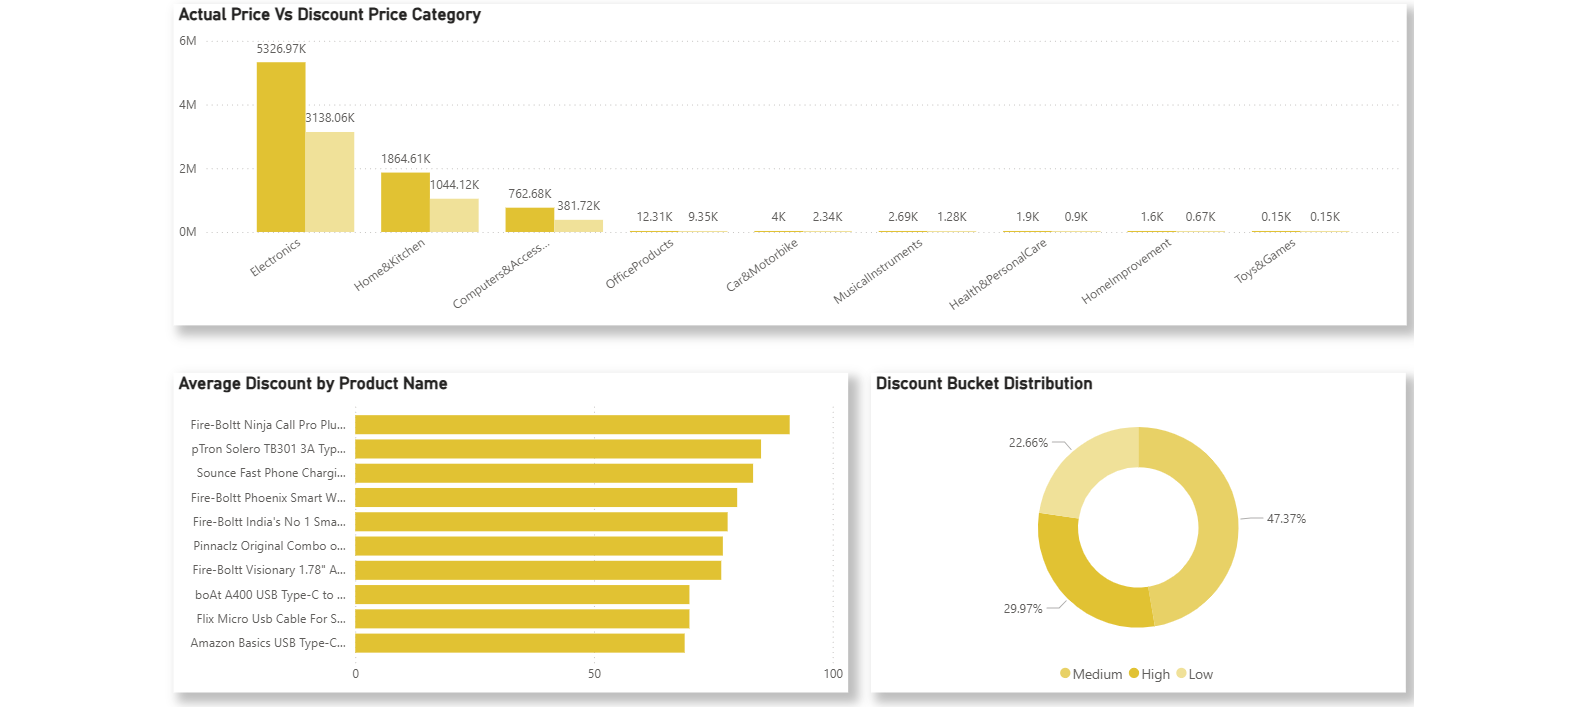

The page's visual inventory and layout, read from the dashboard file:
{"tool":"powerbi","page":{"name":"Page 2","canvas":[1280,720],"ordinal":1},"visuals":[{"type":"clusteredColumnChart","title":"Actual Price Vs Discount Price Category","fields":{"Y":["Sum(amazon.actual_price)","Sum(amazon.discounted_price)"],"Category":["amazon.category.1"]},"box":[50.8,15.1,1206.2,314.2],"z":0},{"type":"barChart","title":"Average Discount by Product Name","fields":{"Category":["amazon.product_name"],"Y":["Avg(amazon.Discount%)"]},"box":[50.8,376,660,312.9],"z":1000},{"type":"donutChart","title":"Discount Bucket Distribution","fields":{"Category":["amazon.Discount Bucket"],"Y":["CountNonNull(amazon.Discount Bucket)"]},"box":[733.7,375.4,523.4,313],"z":2000}]}

Visuals, with their boxes in screenshot pixels (x1, y1, x2, y2):
"Actual Price Vs Discount Price Category" clusteredColumnChart: pyautogui.locateOnScreen(194, 11, 1403, 326)
"Average Discount by Product Name" barChart: pyautogui.locateOnScreen(194, 373, 856, 686)
"Discount Bucket Distribution" donutChart: pyautogui.locateOnScreen(879, 372, 1403, 686)
